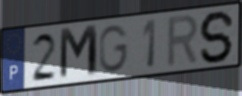1: (141, 17, 157, 71)
2: (29, 31, 59, 82)
G: (97, 23, 130, 75)
M: (58, 23, 100, 83)
R: (165, 12, 201, 70)
S: (198, 9, 237, 65)
